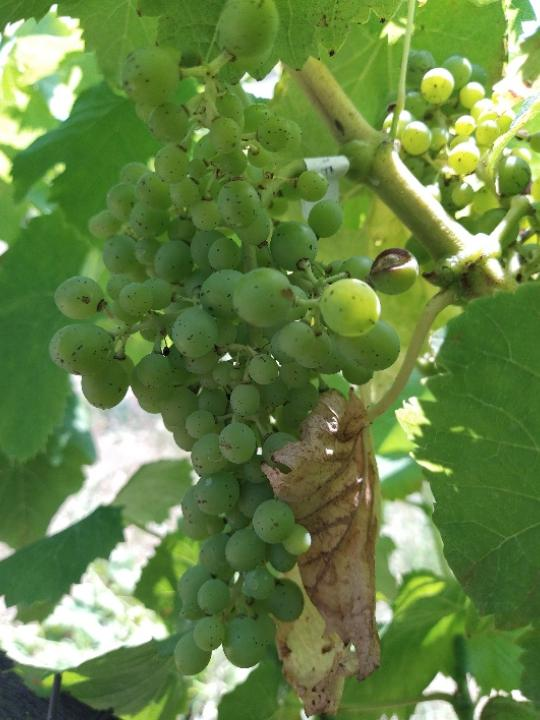grape: (46, 0, 424, 680)
